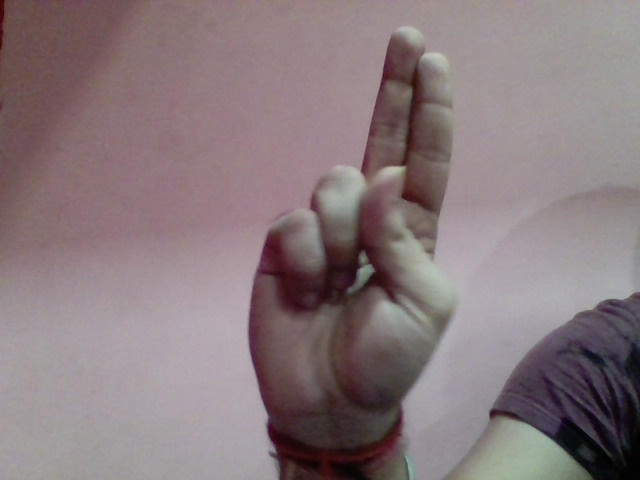u: (233, 24, 475, 440)
